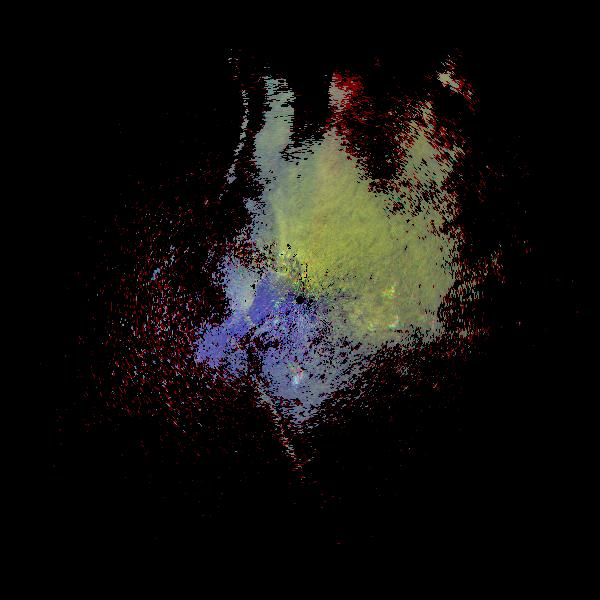roost: (284, 361, 311, 388), (382, 282, 400, 300)
